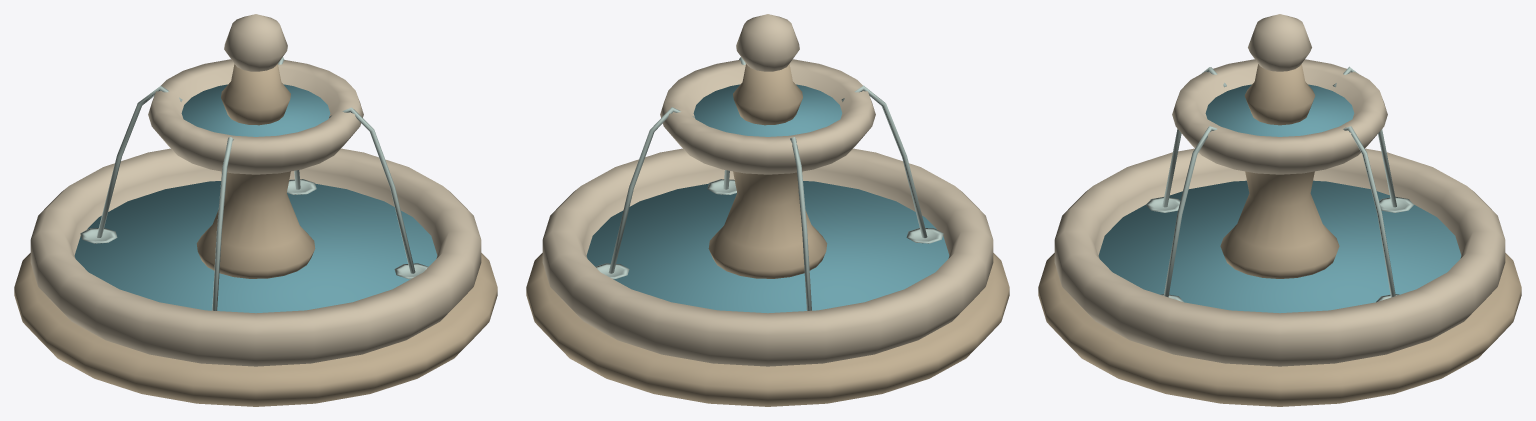
File: fountain.glb
The picture shows the model from 3 angles, left to right: view 1: azimuth 30°, elevation 25°; view 2: azimuth 150°, elevation 25°; view 3: azimuth 270°, elevation 25°; orthographic projection.
Parts seen in each view (by area): view 1: fountain; view 2: fountain; view 3: fountain.
Boxes of the visible parts, x1,y1,x2,y2 form: fountain: (14,14,497,406); fountain: (526,14,1009,406); fountain: (1038,14,1521,406).
Bounding box in the file's own units: 3 × 2.03 × 3.
